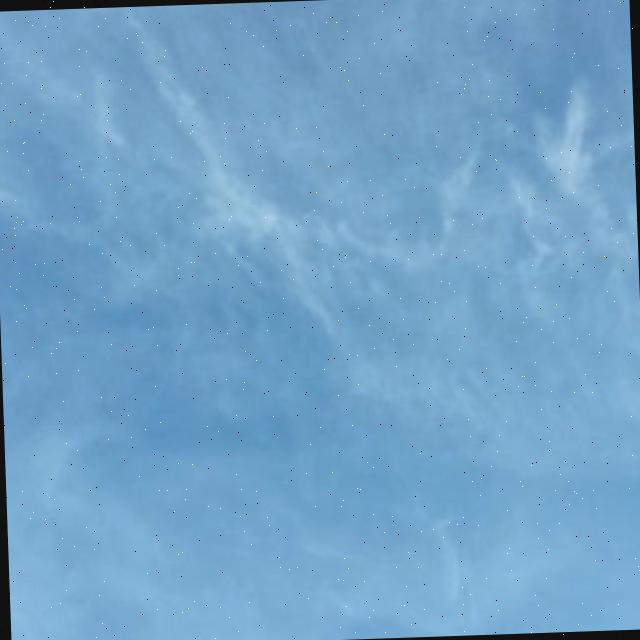Ct: (1, 1, 640, 525)
